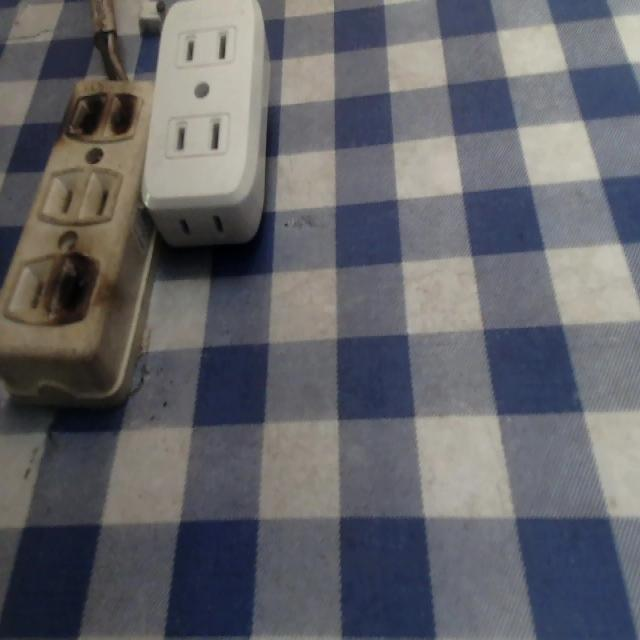-: (65, 88, 142, 148), (53, 252, 102, 321)
